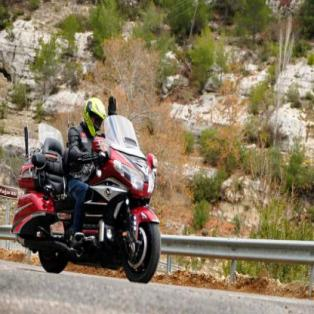Motocicleta: (16, 115, 170, 286)
